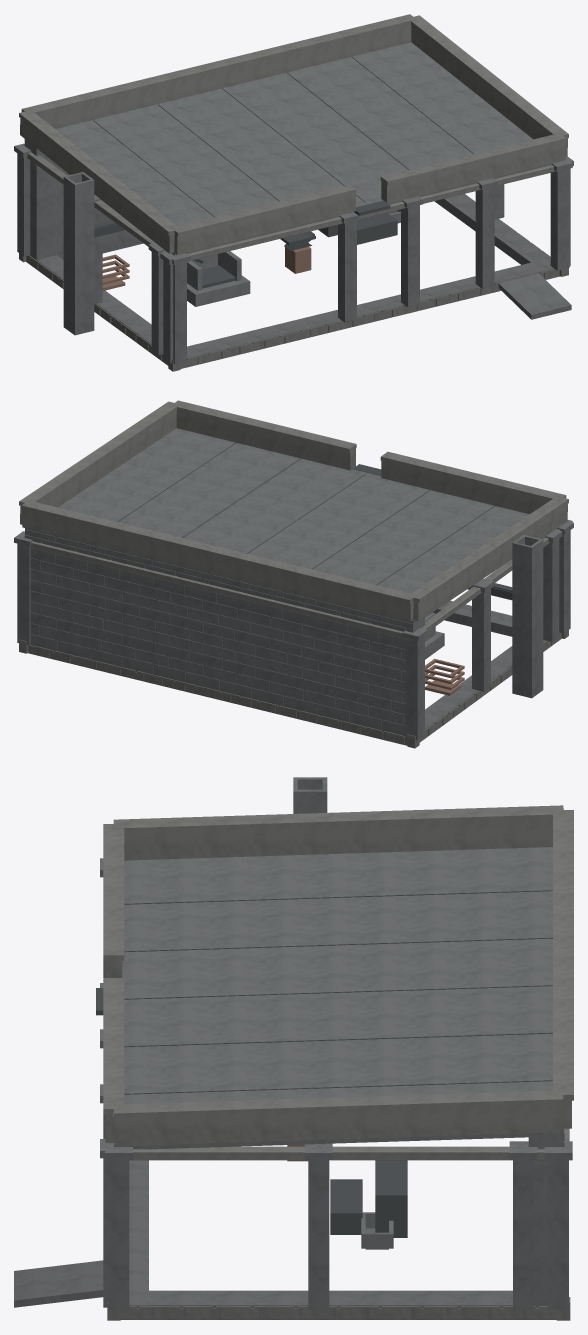
The model's file is installed_smithy.glb.
The picture shows the model from 3 angles, top to bottom: view 1: azimuth 30°, elevation 25°; view 2: azimuth 150°, elevation 25°; view 3: azimuth 270°, elevation 25°; orthographic projection. The views are drawn at different scales.
Parts seen in each view (by area): view 1: world_emberholt.forge_hall.Draining terrace roof, world_emberholt.forge_hall.Terrace parapet and coping, world_emberholt.forge_hall.arcade_piers_0, world_emberholt.forge_hall.facade_foundation_core, world_emberholt.forge_hall.smithy.external_flue, world_emberholt.forge_hall.arcade_piers_3, world_emberholt.forge_hall.facade_stone, world_emberholt.forge_hall.facade_timber, world_emberholt.forge_hall.facade_walls, world_emberholt.forge_hall.smithy.material_ramp, world_emberholt.forge_hall.hearth_stone_plinth, world_emberholt.forge_hall.forge_slag_catch (+6 smaller); view 2: world_emberholt.forge_hall.facade_masonry_skin, world_emberholt.forge_hall.Draining terrace roof, world_emberholt.forge_hall.Terrace parapet and coping, world_emberholt.forge_hall.arcade_piers_3, world_emberholt.forge_hall.facade_walls, world_emberholt.forge_hall.smithy.external_flue, world_emberholt.forge_hall.facade_stone, world_emberholt.forge_hall.facade_timber, world_emberholt.forge_hall.facade_foundation_core, world_emberholt.forge_hall.arcade_piers_1, world_emberholt.forge_hall.coal_bin, world_emberholt.forge_hall.Terrace slab seams; view 3: world_emberholt.forge_hall.Draining terrace roof, world_emberholt.forge_hall.Terrace parapet and coping, world_emberholt.forge_hall.arcade_piers_1, world_emberholt.forge_hall.facade_foundation_core, world_emberholt.forge_hall.facade_stone, world_emberholt.forge_hall.facade_timber, world_emberholt.forge_hall.Terrace slab seams, world_emberholt.forge_hall.smithy.material_ramp, world_emberholt.forge_hall.facade_walls, world_emberholt.forge_hall.ingot_work_bench, world_emberholt.forge_hall.forge_slag_catch, world_emberholt.forge_hall.arcade_piers_0 (+2 smaller).
Part boxes in pixels (x1,y1,x2,y2): world_emberholt.forge_hall.Draining terrace roof: (55, 42, 556, 255); world_emberholt.forge_hall.Terrace parapet and coping: (19, 14, 568, 254); world_emberholt.forge_hall.arcade_piers_0: (165, 158, 572, 363); world_emberholt.forge_hall.facade_foundation_core: (27, 194, 559, 368); world_emberholt.forge_hall.smithy.external_flue: (63, 172, 94, 335); world_emberholt.forge_hall.arcade_piers_3: (14, 143, 182, 363); world_emberholt.forge_hall.facade_stone: (26, 194, 559, 368); world_emberholt.forge_hall.facade_timber: (26, 152, 555, 260); world_emberholt.forge_hall.facade_walls: (25, 139, 133, 259); world_emberholt.forge_hall.smithy.material_ramp: (498, 273, 571, 319); world_emberholt.forge_hall.hearth_stone_plinth: (187, 275, 250, 306); world_emberholt.forge_hall.forge_slag_catch: (357, 213, 397, 244); world_emberholt.forge_hall.facade_masonry_skin: (24, 529, 413, 735); world_emberholt.forge_hall.Draining terrace roof: (25, 428, 544, 624); world_emberholt.forge_hall.Terrace parapet and coping: (19, 400, 568, 621); world_emberholt.forge_hall.arcade_piers_3: (402, 521, 573, 740); world_emberholt.forge_hall.facade_walls: (25, 531, 424, 729); world_emberholt.forge_hall.smithy.external_flue: (512, 535, 543, 698); world_emberholt.forge_hall.facade_stone: (28, 600, 561, 744); world_emberholt.forge_hall.facade_timber: (23, 529, 560, 640); world_emberholt.forge_hall.facade_foundation_core: (28, 601, 560, 745); world_emberholt.forge_hall.arcade_piers_1: (14, 531, 32, 645); world_emberholt.forge_hall.coal_bin: (425, 658, 464, 695); world_emberholt.forge_hall.Terrace slab seams: (117, 442, 494, 585); world_emberholt.forge_hall.Draining terrace roof: (114, 847, 563, 1149); world_emberholt.forge_hall.Terrace parapet and coping: (103, 805, 573, 1146); world_emberholt.forge_hall.arcade_piers_1: (105, 1141, 572, 1309); world_emberholt.forge_hall.facade_foundation_core: (120, 1160, 556, 1319); world_emberholt.forge_hall.facade_stone: (120, 1306, 556, 1318); world_emberholt.forge_hall.facade_timber: (133, 1128, 569, 1160); world_emberholt.forge_hall.Terrace slab seams: (124, 890, 552, 1094); world_emberholt.forge_hall.smithy.material_ramp: (14, 1260, 103, 1307); world_emberholt.forge_hall.facade_walls: (528, 1134, 563, 1305); world_emberholt.forge_hall.ingot_work_bench: (375, 1160, 407, 1237); world_emberholt.forge_hall.forge_slag_catch: (330, 1179, 362, 1234); world_emberholt.forge_hall.arcade_piers_0: (100, 858, 127, 1307).
Size of the model in its own units: 15.17 by 5.17 by 11.21.
5 materials, 4 textured.
